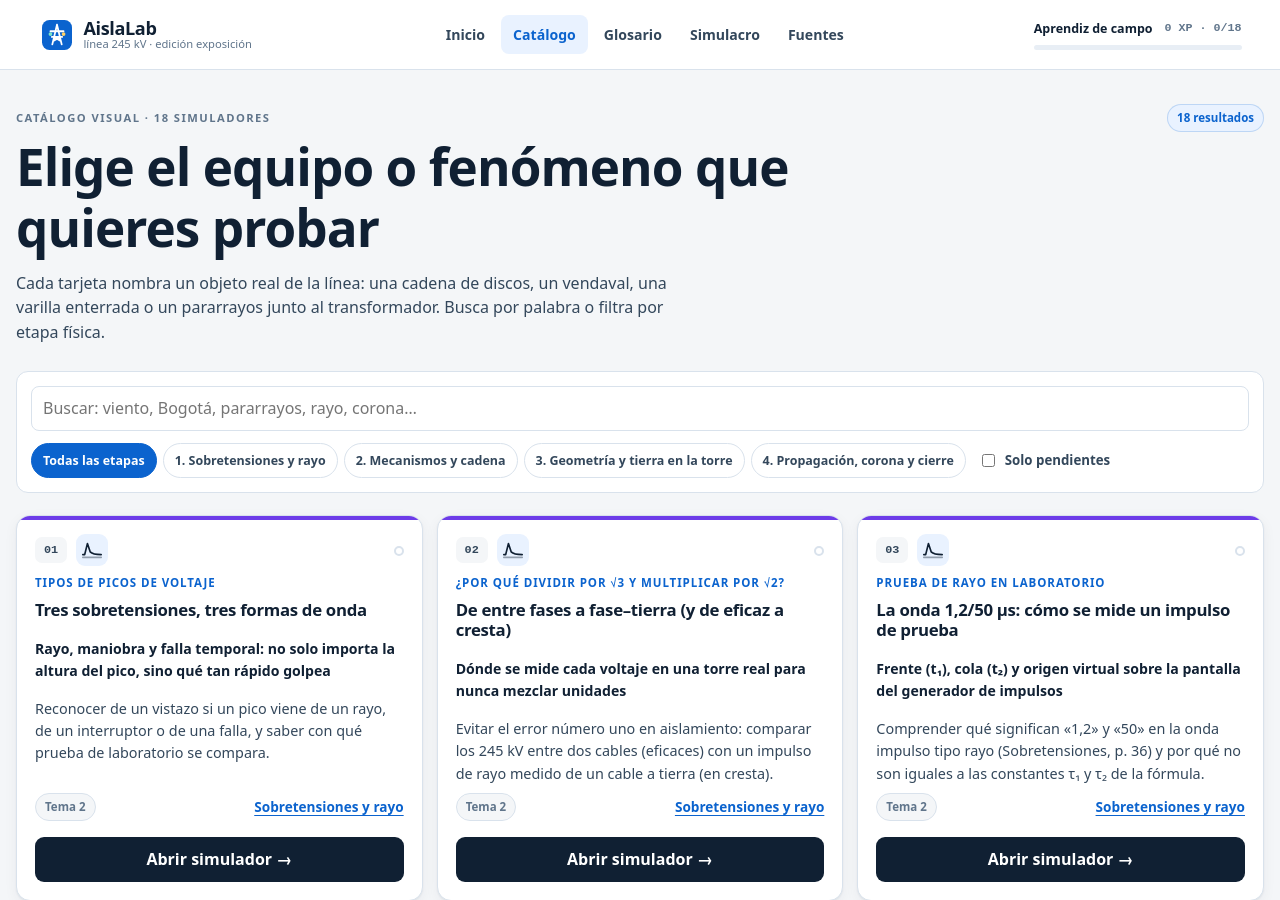
Test case: interacciones concretas › el catálogo filtra por texto y el glosario por símbolo
Later steps or results of the test are not shown.
Step 1. Type "Bogotá" into the search field with placeholder "Buscar: viento, Bogotá, pararrayos, rayo, corona…" → (640, 408), box [31, 386, 1249, 431]
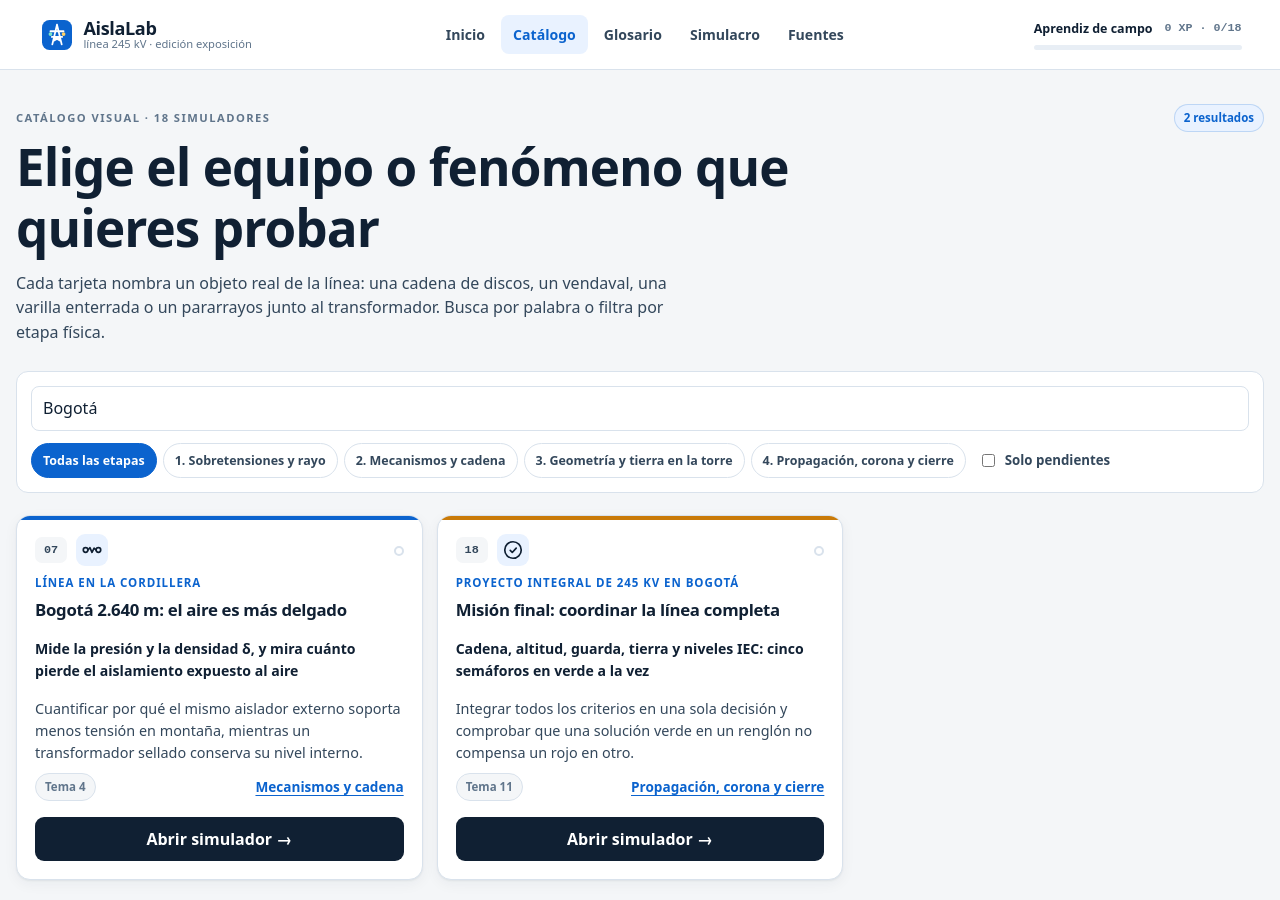
Expected: the heading "Bogotá 2.640 m: el aire es más delgado" is shown, [35, 598, 347, 621]
Expected: the heading "Tres sobretensiones, tres formas de onda" is gone
